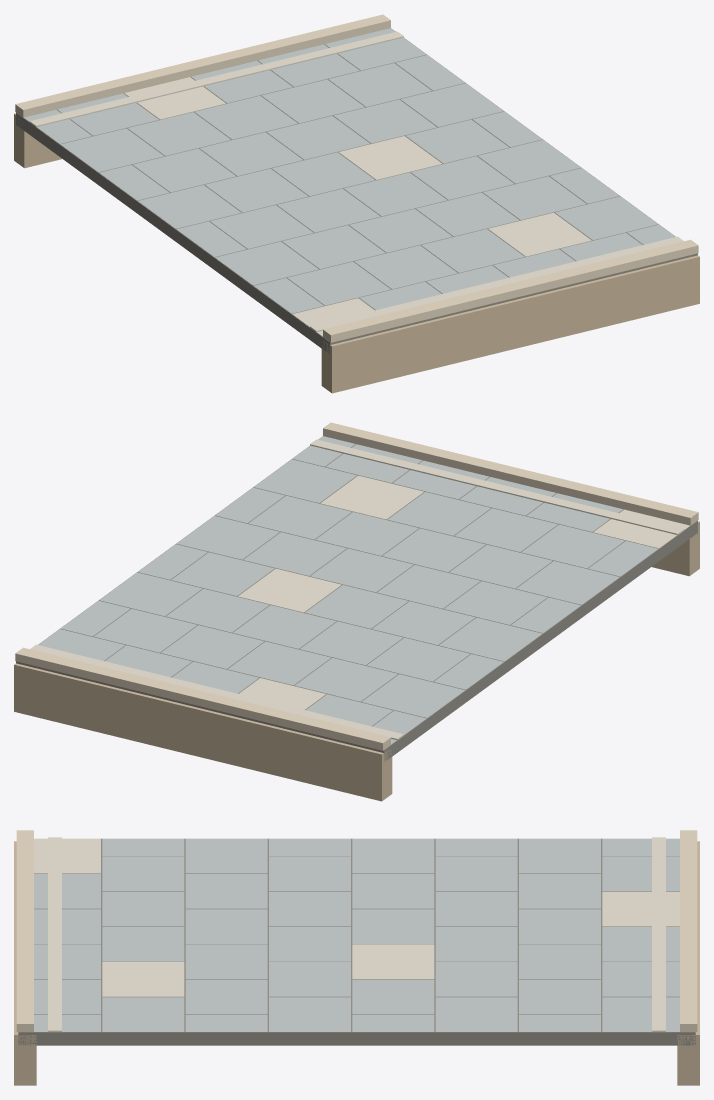
Rendered from Promenade10.glb.
The picture shows the model from 3 angles, top to bottom: view 1: azimuth 30°, elevation 25°; view 2: azimuth 150°, elevation 25°; view 3: azimuth 270°, elevation 25°; orthographic projection. The views are drawn at different scales.
Visible parts, largest first — view 1: Promenade10; view 2: Promenade10; view 3: Promenade10.
Part boxes in pixels (x1,y1,x2,y2): Promenade10: (14, 14, 699, 393); Promenade10: (14, 422, 699, 801); Promenade10: (14, 830, 699, 1085).
Size of the model in its own units: 8.52 by 1.27 by 12.76.
